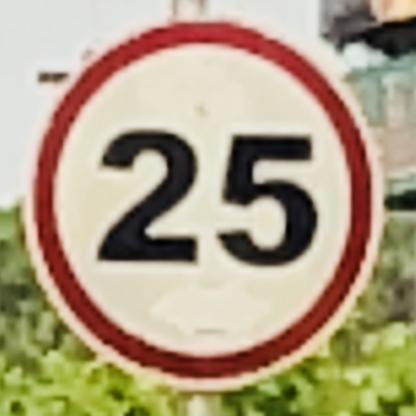Speed Limit -25 kmph-: (26, 15, 381, 392)
